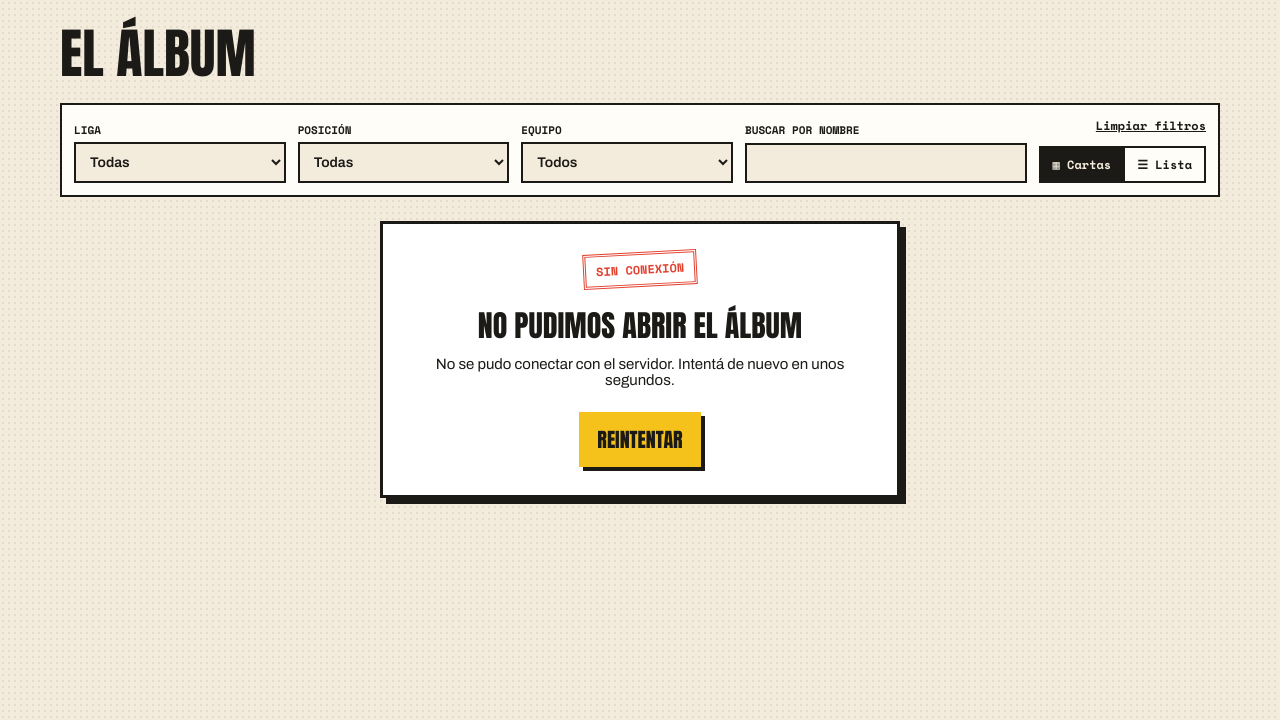
Scenario: AlbumPage › shows a recoverable error for HTTP 400 and retries
Expected: the heading "No pudimos abrir el álbum" is shown, [478,303,802,348]
Expected: the text "Sin conexión" is shown, [582,249,698,290]
What coordinates should you click on to do the following:
click the button "Reintentar"
I would click on:
 (640, 440)
Its box is [579,412,701,467].
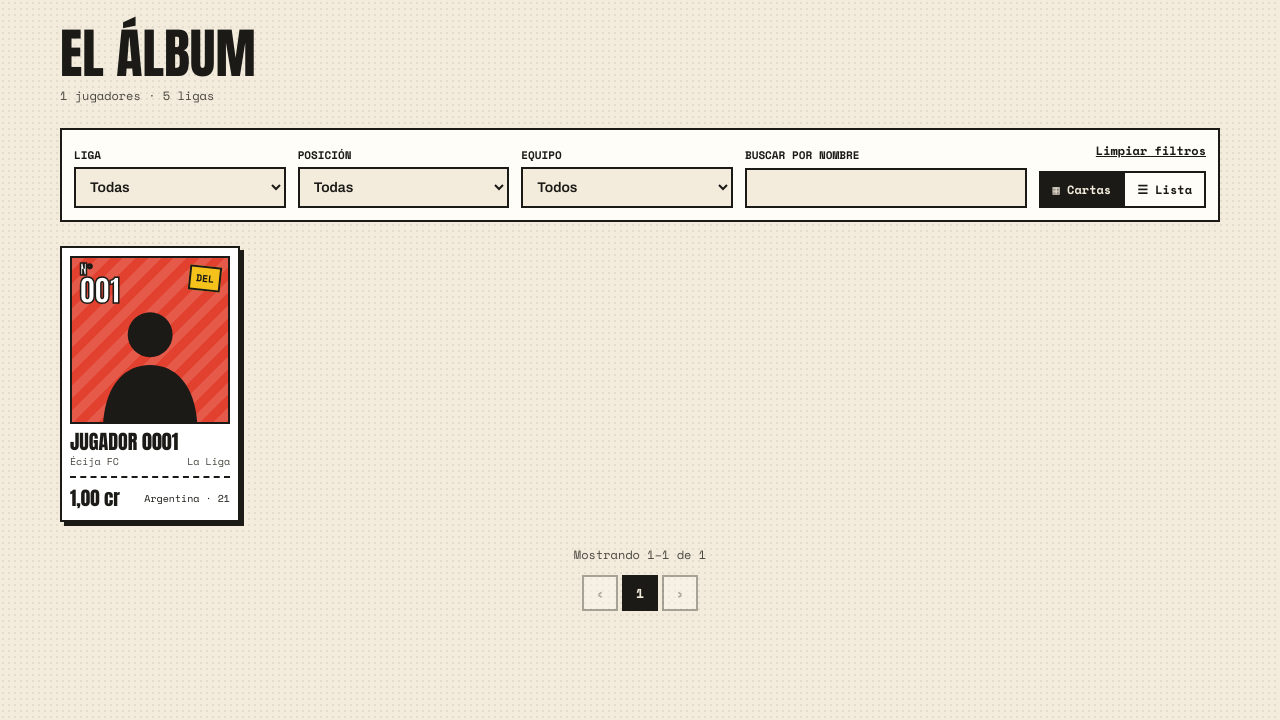
Now the element named "Jugador 0001, Écija FC" is shown, box [60,246,240,522]
